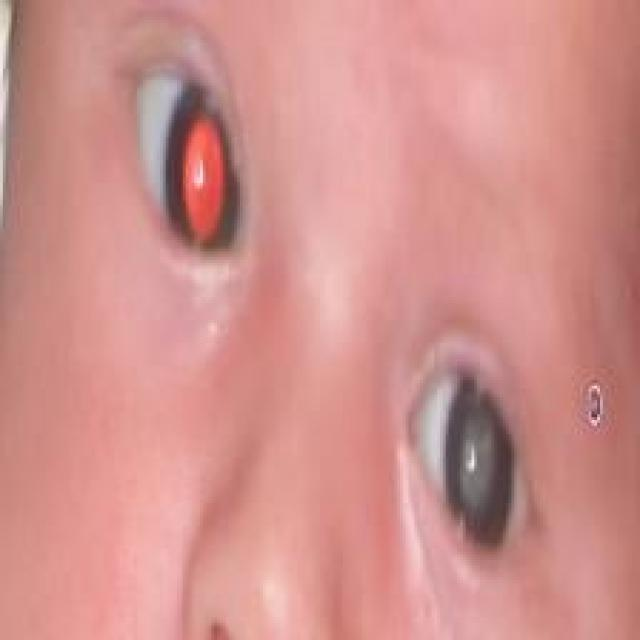reflexo-alterado: (410, 336, 544, 581)
reflexo-normal: (120, 32, 282, 299)
